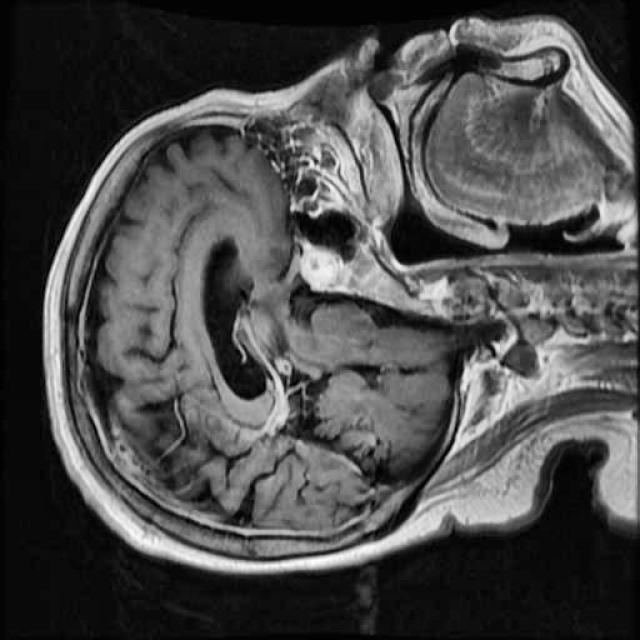Tumor: (291, 233, 351, 305)
